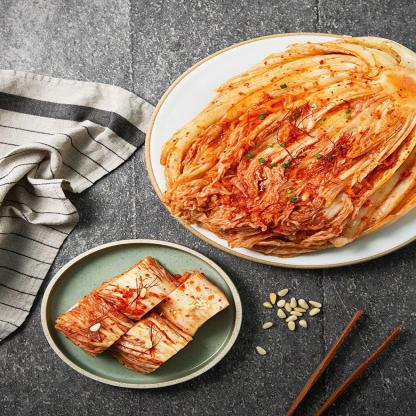kimchi: (180, 27, 416, 276)
